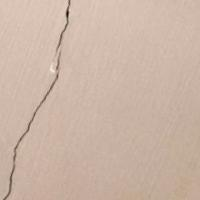crack: (3, 0, 77, 199)
